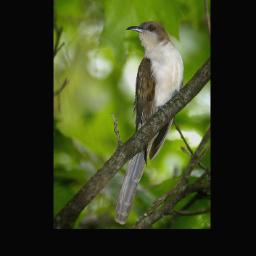Cuckoo: (114, 20, 186, 224)
